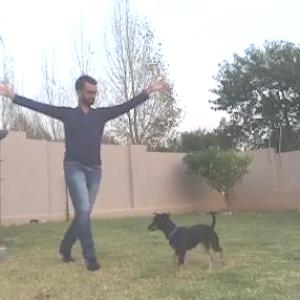takeoff: (1, 57, 176, 277)
